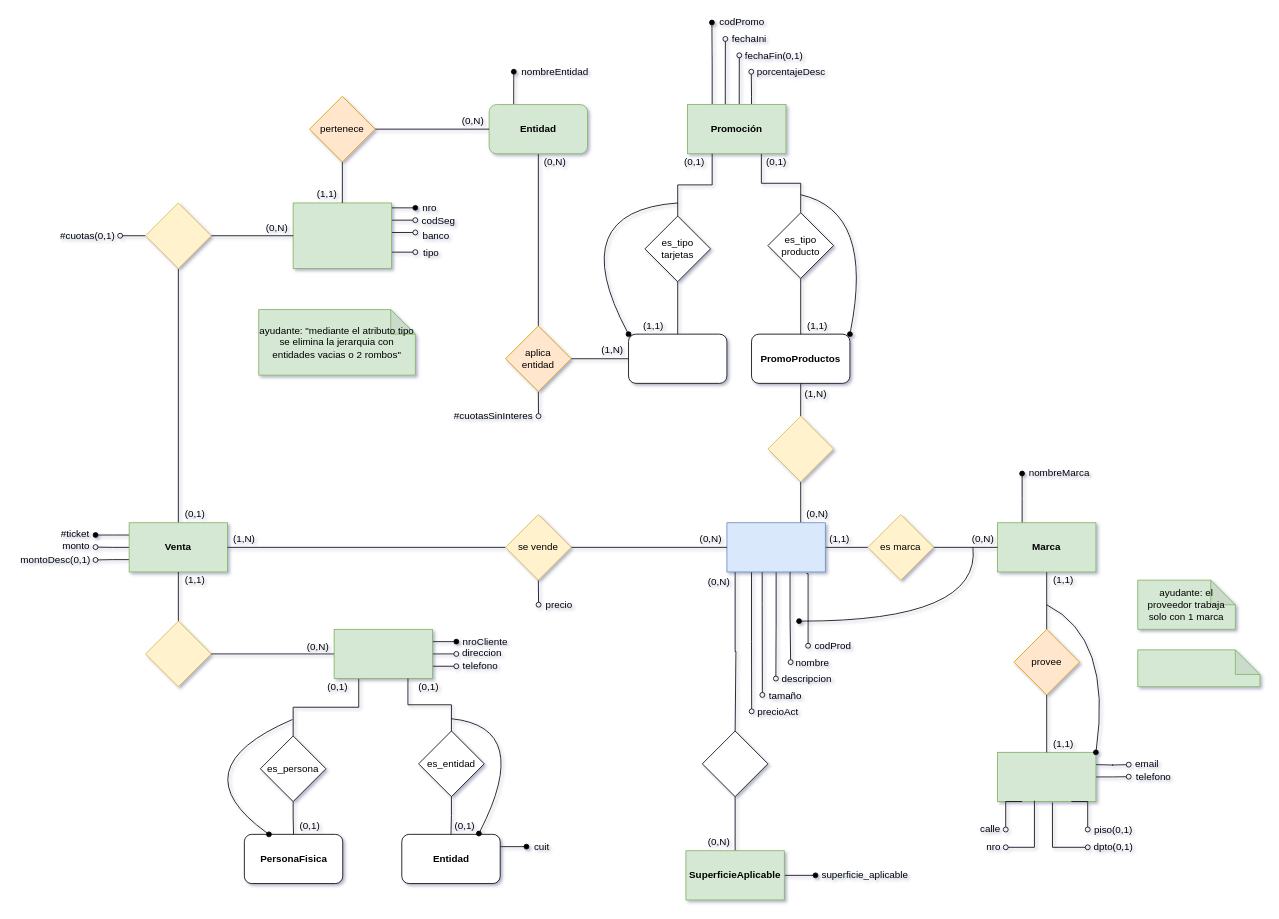
Image size: 1279x919. Some labels were removed from this diagram. The shapes that lost their labels are listed below. From the top down, each one's centre as x and y in pixels, then its label:
At point (178, 235): "se paga".
At point (342, 235): "Tarjeta".
At point (677, 358): "PromoTarjeta".
At point (800, 448): "aplica prod".
At point (775, 547): "Producto".
At point (178, 653): "realiza compra".
At point (383, 654): "Cliente".
At point (1198, 668): "ayudante: email y telefono nunca deberian usarse para identificadores".
At point (735, 763): "aplica_sup".
At point (1046, 777): "Proveedor".
